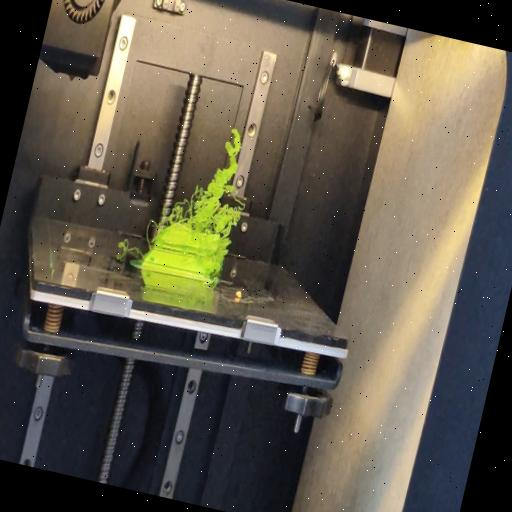spaghetti: (164, 118, 261, 246), (206, 238, 230, 291), (116, 238, 146, 264), (144, 216, 162, 248)
